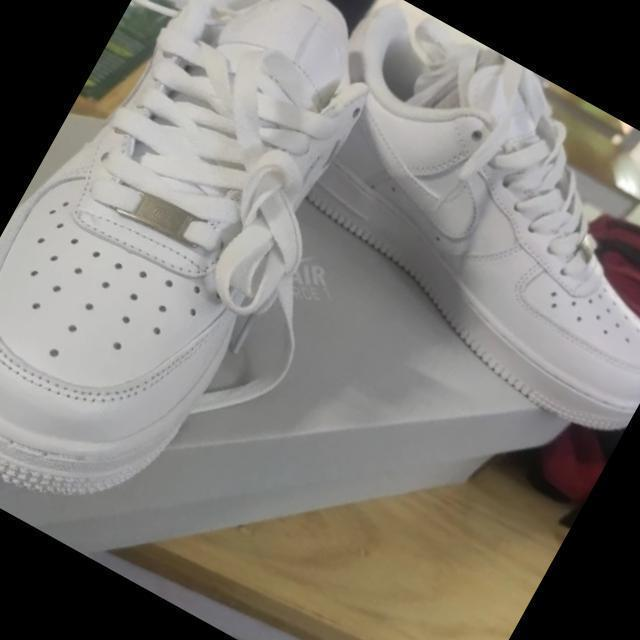nike original air force: (0, 0, 404, 549), (228, 0, 640, 451)
